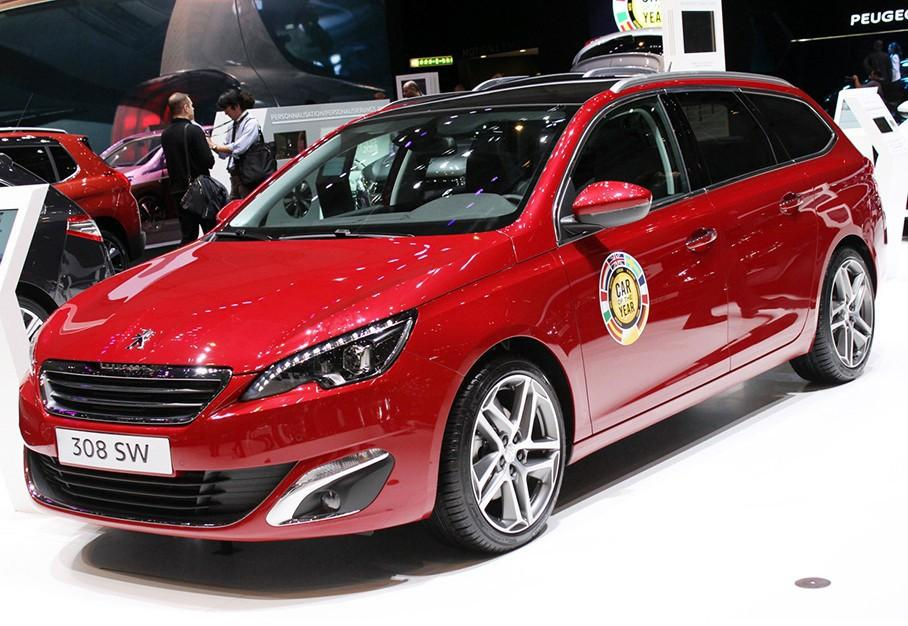Wagon: (19, 70, 887, 556)
